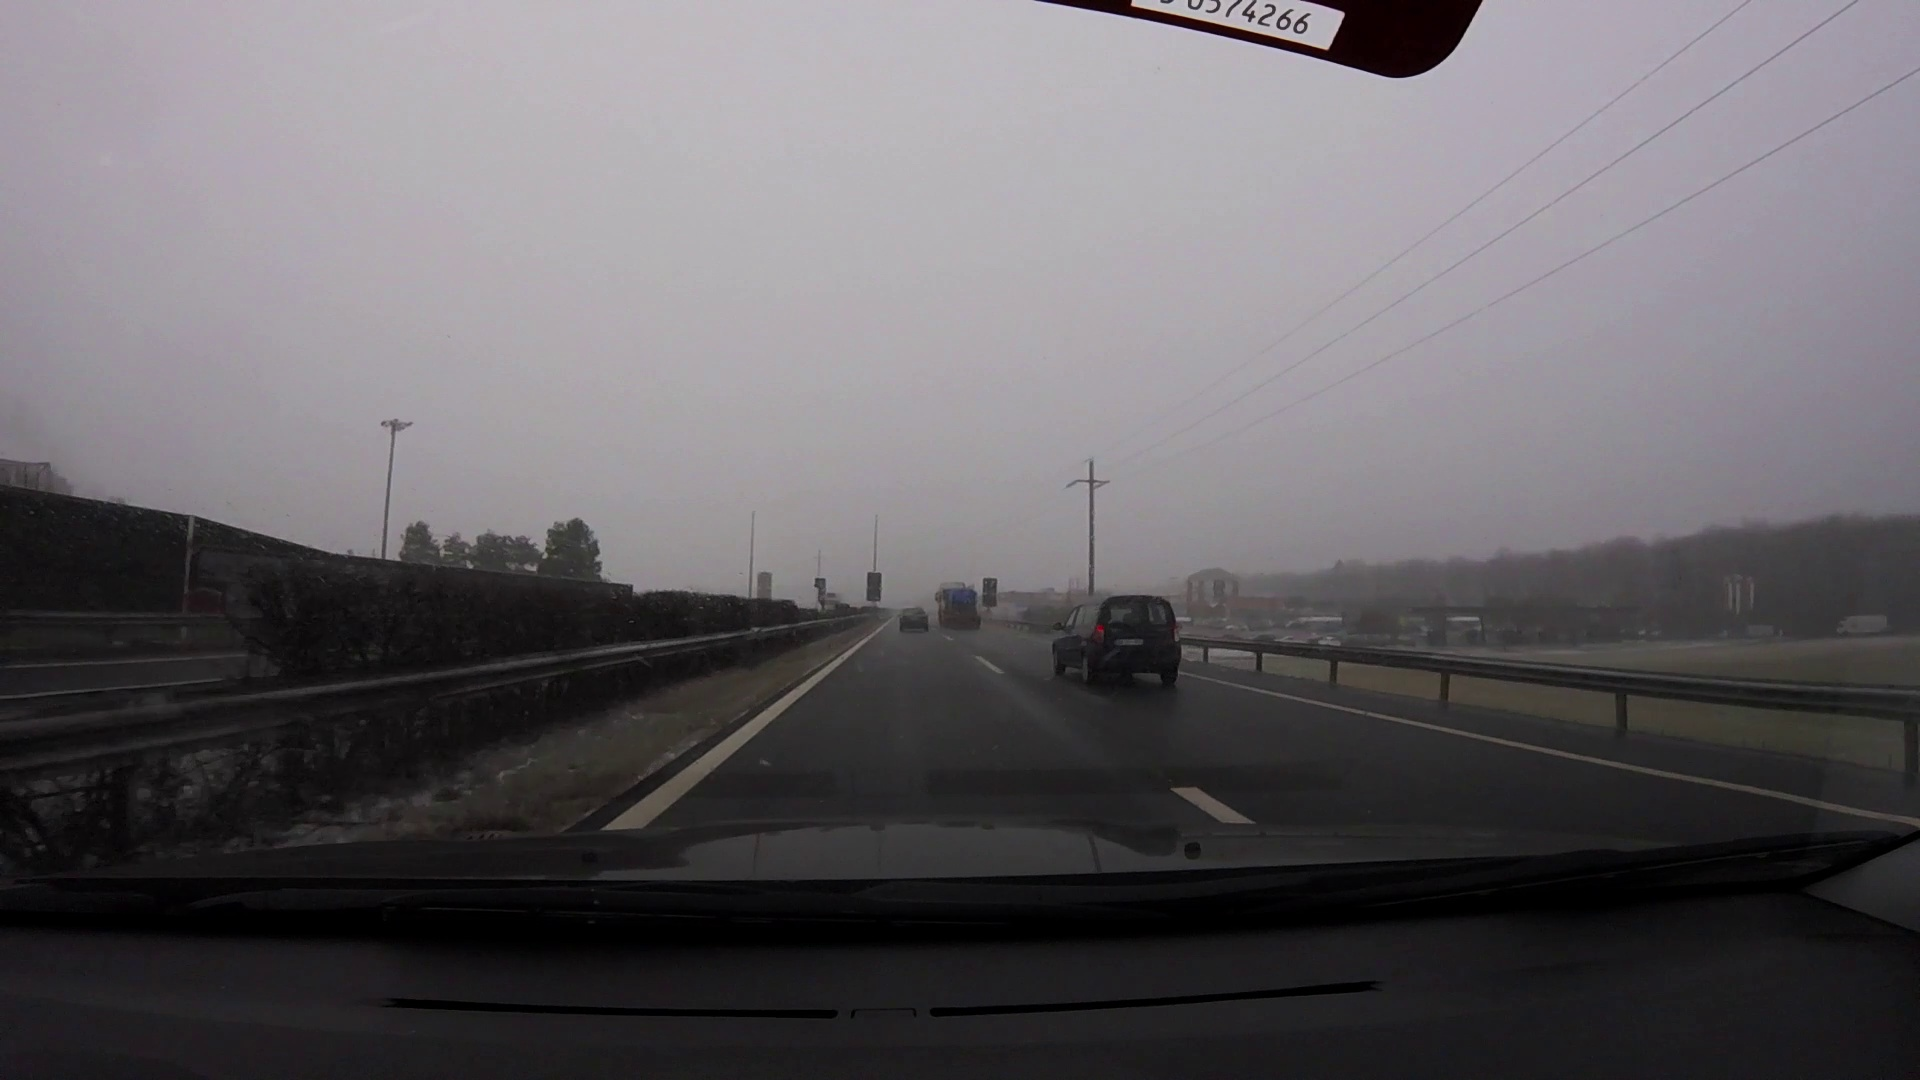radar: (814, 576, 829, 607)
